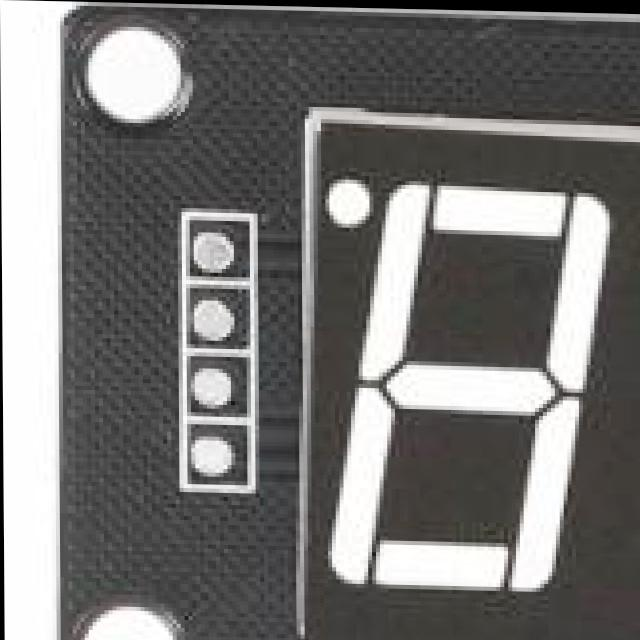display: (288, 81, 640, 640)
